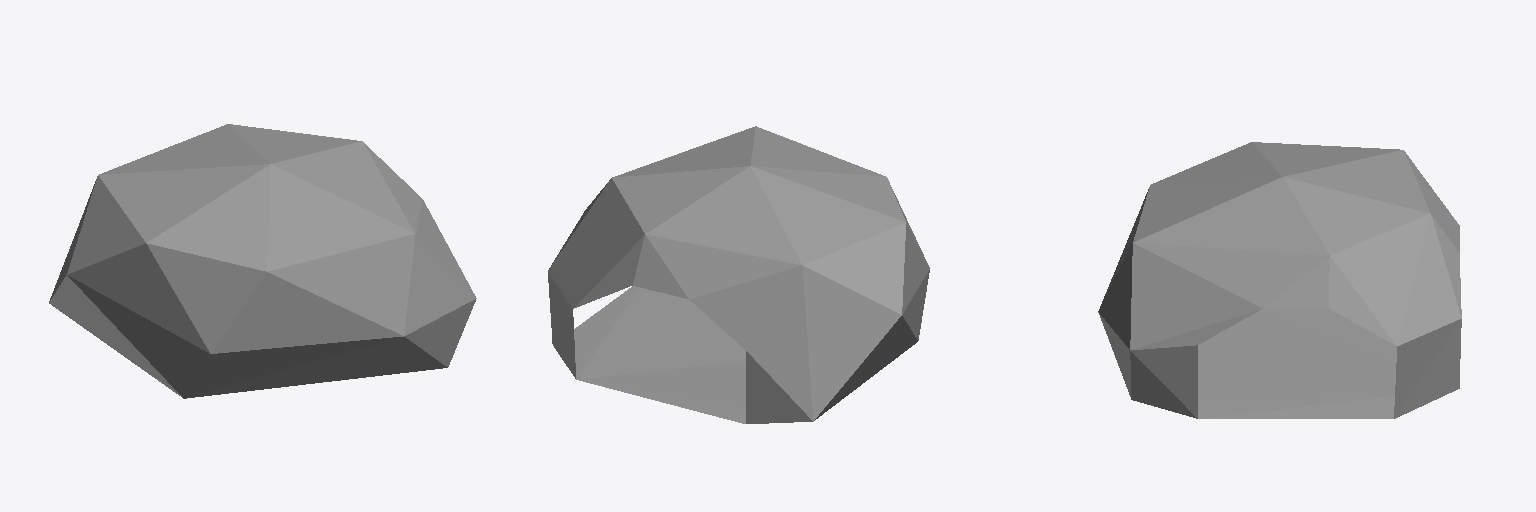
The model's file is Mesh_CavePack_RoomSquareTurn90_lod2.obj.
3 views of the same model, side by side, from view 1: azimuth 30°, elevation 25°; view 2: azimuth 150°, elevation 25°; view 3: azimuth 270°, elevation 25° (orthographic).
Parts seen in each view (by area): view 1: Plane.002_Plane.007; view 2: Plane.002_Plane.007; view 3: Plane.002_Plane.007.
Part boxes in pixels (left/top/right/bottom): Plane.002_Plane.007: left=49, top=124, right=476, bottom=398; Plane.002_Plane.007: left=548, top=126, right=929, bottom=423; Plane.002_Plane.007: left=1098, top=142, right=1461, bottom=418.
Size of the model in its own units: 18.27 by 9.4 by 17.79.